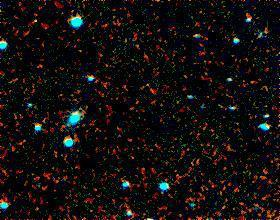star: (48, 109, 78, 139)
